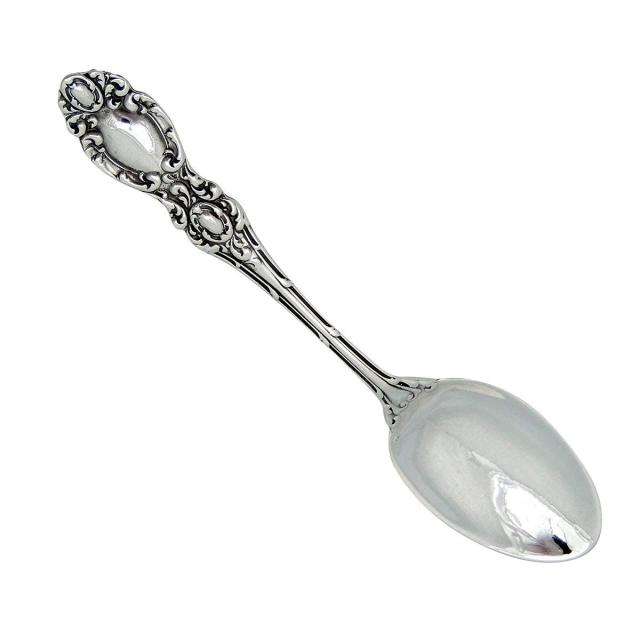spoon: (50, 47, 619, 575)
